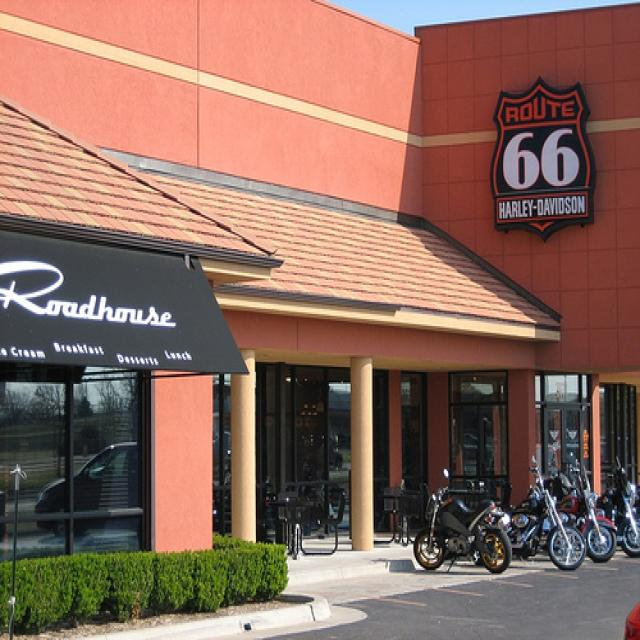motor: (500, 454, 588, 575), (414, 487, 513, 573), (545, 463, 618, 568), (606, 454, 640, 560)
